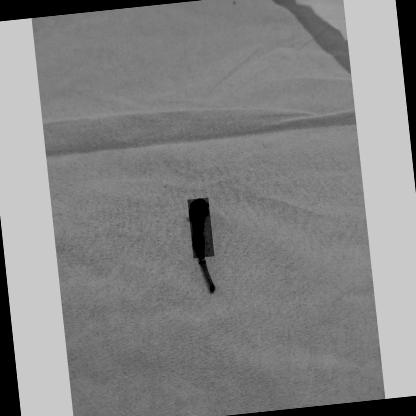sedang: (189, 198, 209, 257)
